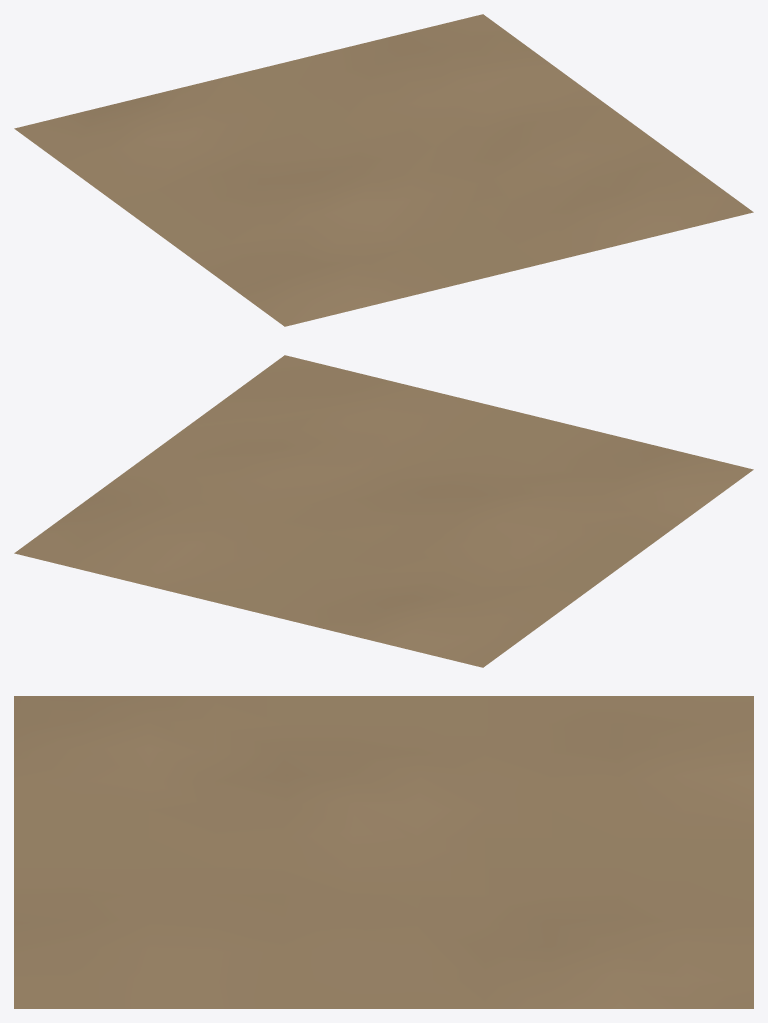
File: ocean.glb
3 views of the same model, one above another, from view 1: azimuth 30°, elevation 25°; view 2: azimuth 150°, elevation 25°; view 3: azimuth 270°, elevation 25° (orthographic). The views are drawn at different scales.
Visible parts, largest first — view 1: Plane; view 2: Plane; view 3: Plane.
Boxes of the visible parts, x1=… form: Plane: x1=14, y1=14, x2=753, y2=326; Plane: x1=14, y1=355, x2=753, y2=667; Plane: x1=14, y1=696, x2=753, y2=1008.
Size of the model in its own units: 20 by 0.2018 by 20.
